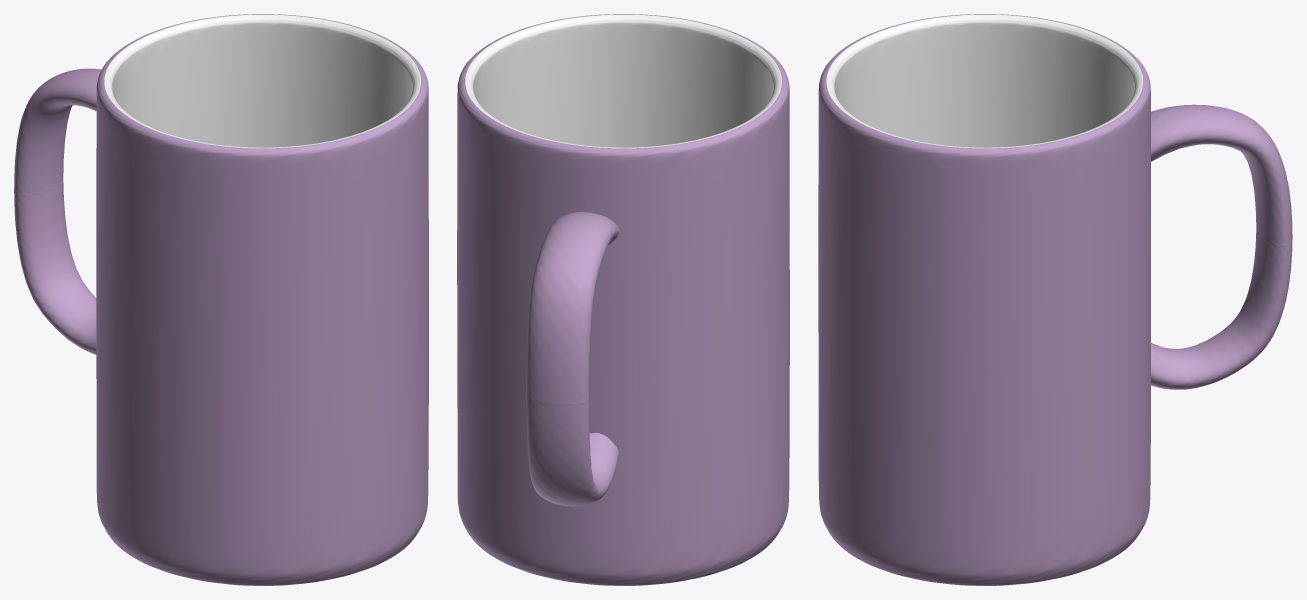
File: mug.glb
The picture shows the model from 3 angles, left to right: view 1: azimuth 30°, elevation 25°; view 2: azimuth 150°, elevation 25°; view 3: azimuth 270°, elevation 25°; orthographic projection.
Parts seen in each view (by area): view 1: Object_2.001; view 2: Object_2.001; view 3: Object_2.001.
Boxes of the visible parts, <box> form: Object_2.001: <box>14,14,428,585</box>; Object_2.001: <box>457,14,789,585</box>; Object_2.001: <box>818,14,1292,585</box>.
Bounding box in the file's own units: 0.7883 × 1.15 × 1.12.
3 materials, 1 textured.
